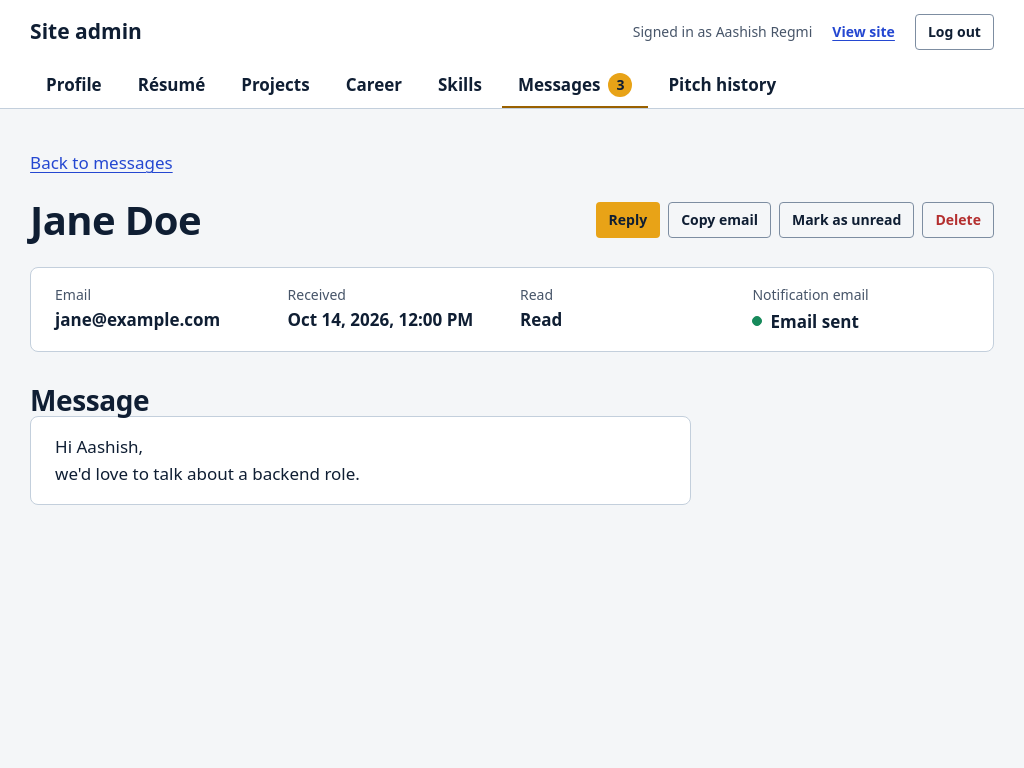
Messages: detail › replies by mailto with the standard subject and copies the email
The width and height of the screenshot is (1024, 768).
Expected: the heading "Jane Doe" is shown, [30,197,201,243]
Click the button "Copy email": {"x": 720, "y": 220} [668,202,771,238]
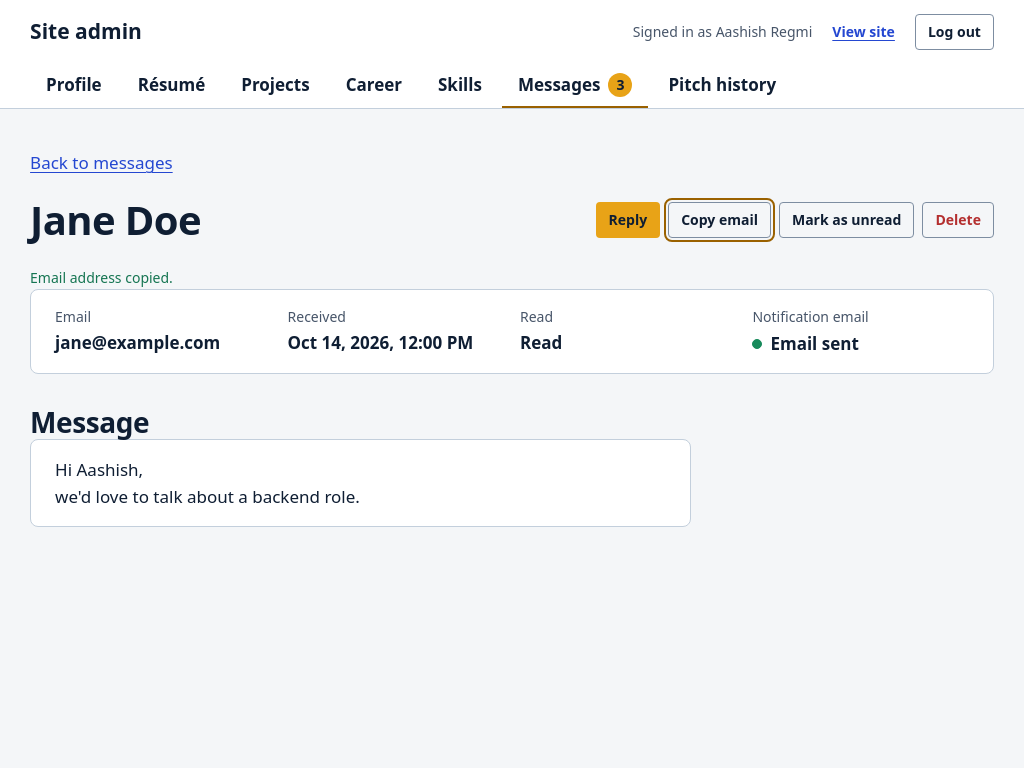
Expected: the text "Email address copied." is shown, [30,268,173,287]
